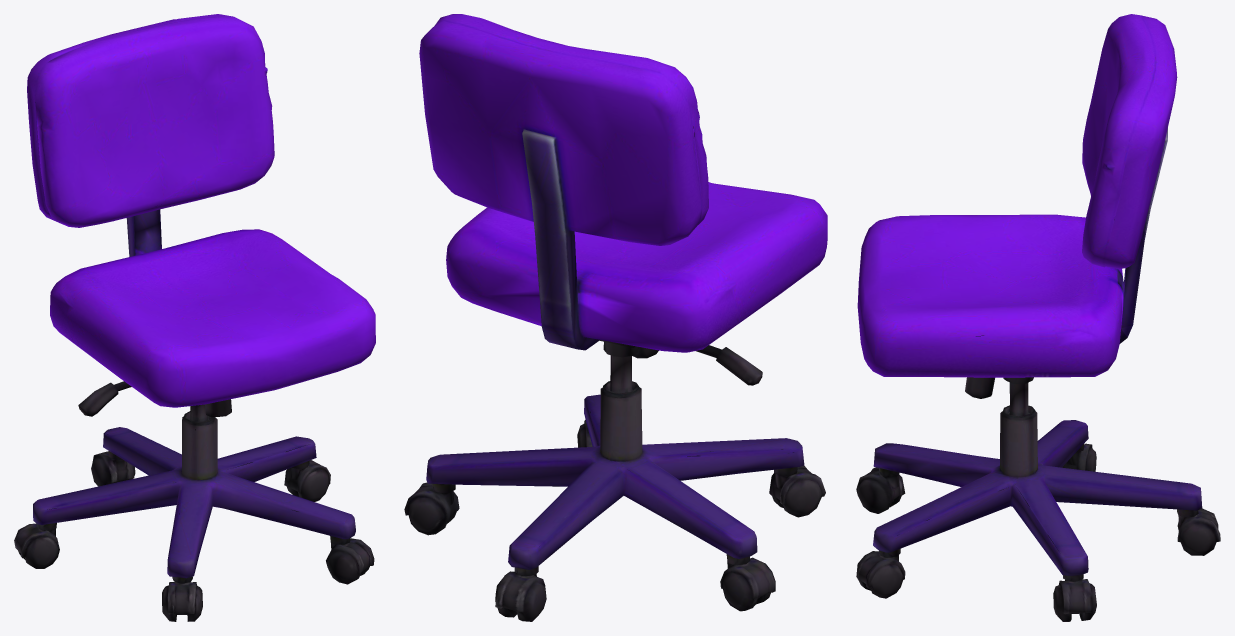
Rendered from chair.glb.
The picture shows the model from 3 angles, left to right: view 1: azimuth 30°, elevation 25°; view 2: azimuth 150°, elevation 25°; view 3: azimuth 270°, elevation 25°; orthographic projection. The views are drawn at different scales.
Parts seen in each view (by area): view 1: low; view 2: low; view 3: low.
Part boxes in pixels (x1=…): low: x1=14, y1=14, x2=375, y2=621; low: x1=404, y1=14, x2=827, y2=621; low: x1=856, y1=14, x2=1220, y2=621.
Size of the model in its own units: 0.6655 by 0.9802 by 0.6551.
Materials: 1 (1 with a texture image).
